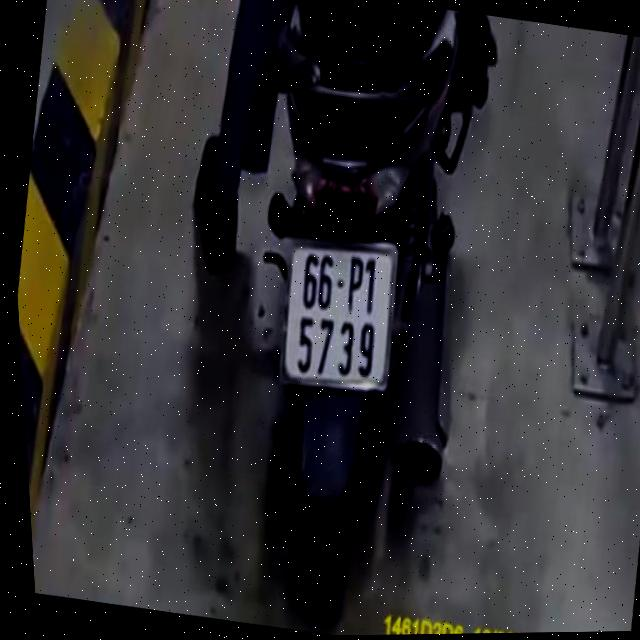motorcycle: (170, 0, 543, 631)
plate: (260, 229, 418, 407)
